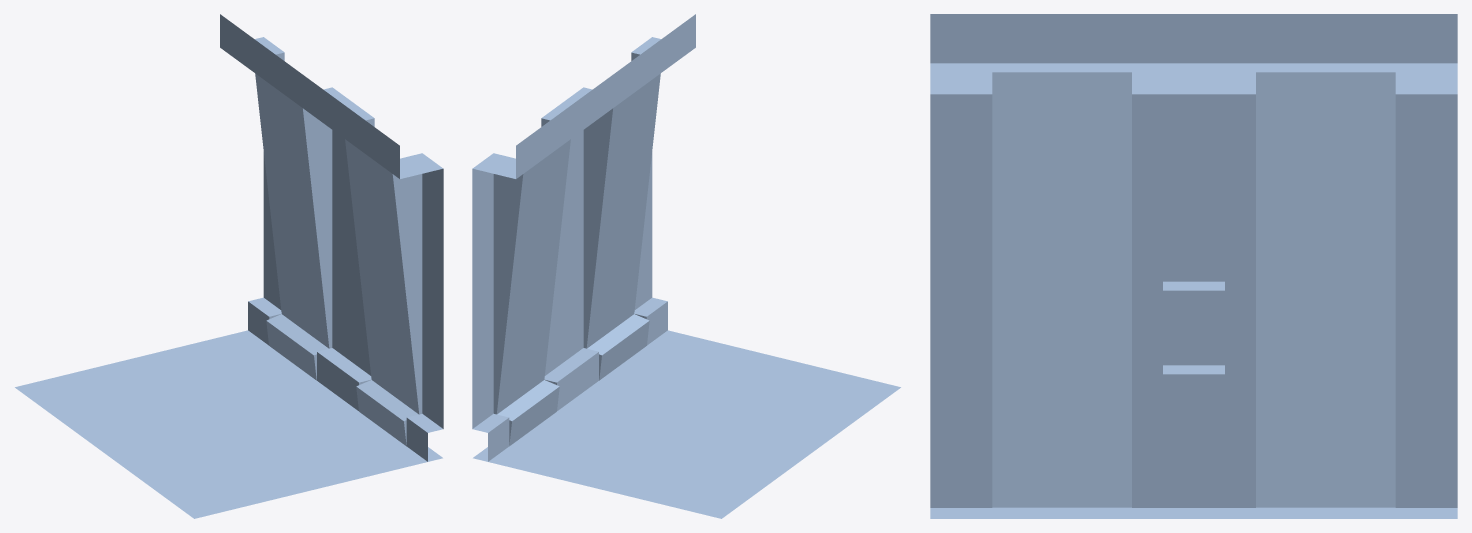
The model's file is prueba.gltf.
3 views of the same model, side by side, from view 1: azimuth 30°, elevation 25°; view 2: azimuth 150°, elevation 25°; view 3: azimuth 270°, elevation 25° (orthographic). The views are drawn at different scales.
Visible parts, largest first — view 1: Pared.2; view 2: Pared.2; view 3: Pared.2.
Part boxes in pixels (<box>): Pared.2: <box>15,14,443,518</box>; Pared.2: <box>472,14,900,518</box>; Pared.2: <box>930,14,1457,518</box>.
Bounding box in the file's own units: 2 × 2 × 2.
